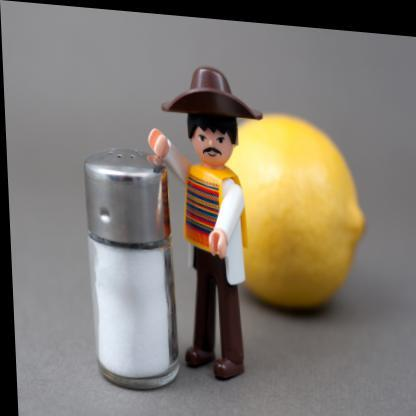lemon: (224, 114, 365, 309)
